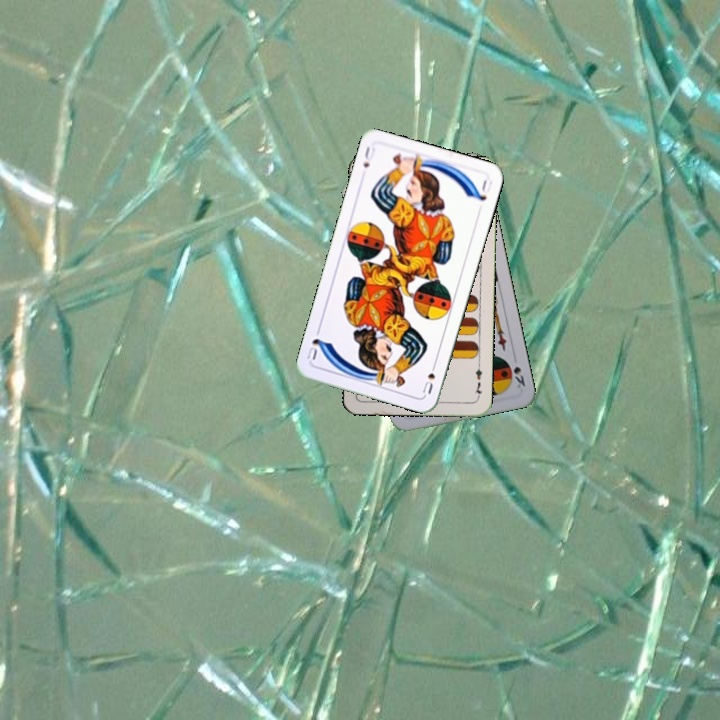E7: (471, 360, 485, 401)
SK: (509, 351, 528, 391)
SU: (418, 358, 439, 396), (359, 142, 378, 170)
